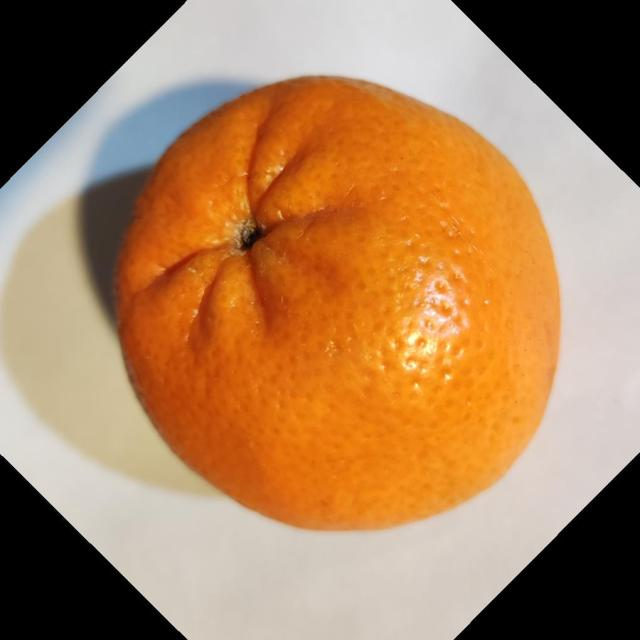fresh orange: (112, 73, 562, 532)
